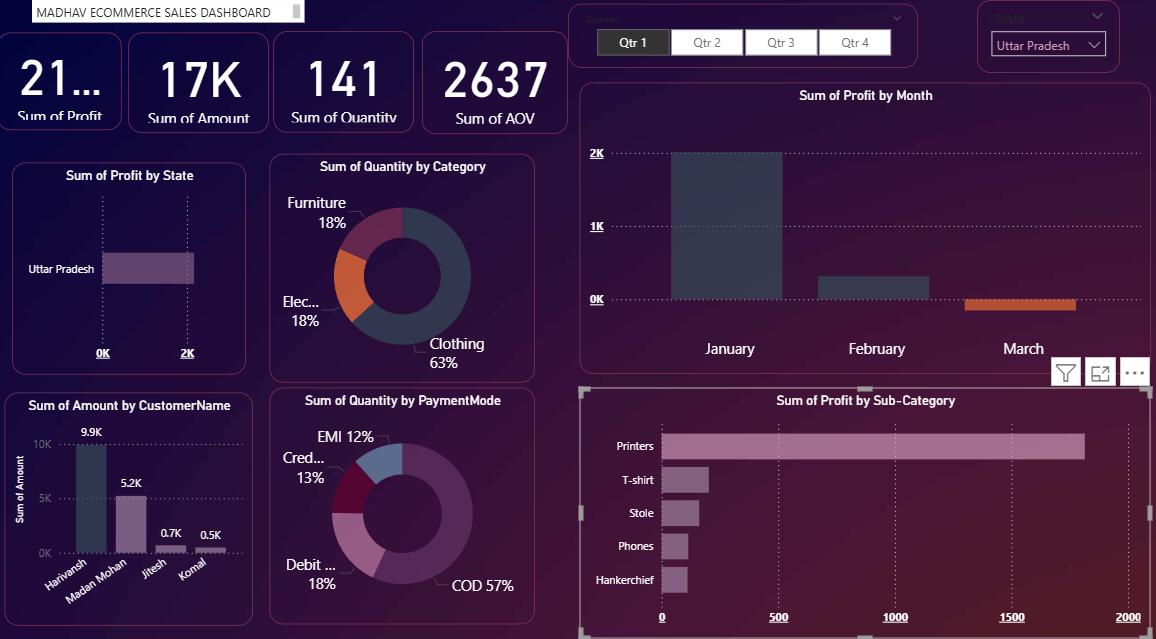

The dashboard page shown, as its layout file describes it:
{"tool":"powerbi","page":{"name":"Page 1","canvas":[1280,720],"ordinal":0},"visuals":[{"type":"textbox","box":[40,0,295.7,45.7],"z":0},{"type":"barChart","fields":{"Y":["Details.Profit"],"Category":["Details.Sub-Category"]},"box":[640,431.4,627.1,275.7],"z":1000},{"type":"clusteredColumnChart","fields":{"Category":["Orders (1).Order Date.Variation.Date Hierarchy.Month"],"Y":["Details.Profit"]},"box":[640,95.7,627.1,320],"z":2000},{"type":"donutChart","fields":{"Y":["Details.Quantity"],"Category":["Details.PaymentMode"]},"box":[298.6,431.4,291.4,260],"z":3000},{"type":"donutChart","fields":{"Y":["Details.Quantity"],"Category":["Details.Category","Details.PaymentMode"]},"box":[298.6,174.3,291.4,251.4],"z":4000},{"type":"card","fields":{"Values":["Details.Amount"]},"box":[144.3,41.4,154.3,110],"z":5000},{"type":"card","fields":{"Values":["Details.Quantity"]},"box":[302.9,40,154.3,111.4],"z":6000},{"type":"card","fields":{"Values":["Details.Profit"]},"box":[0,41.4,137.1,107.1],"z":7000},{"type":"card","fields":{"Values":["Details.AOV"]},"box":[467.1,40,160,112.9],"z":8000},{"type":"barChart","fields":{"Y":["Details.Profit"],"Category":["Orders (1).State"]},"box":[17.1,184.3,257.1,232.9],"z":9000},{"type":"columnChart","fields":{"Category":["Orders (1).CustomerName"],"Y":["Details.Amount"]},"box":[8.6,435.7,272.9,255.7],"z":10000},{"type":"slicer","fields":{"Values":["Orders (1).Order Date.Variation.Date Hierarchy.Quarter"]},"box":[627.1,10,384.3,70],"z":10001},{"type":"slicer","fields":{"Values":["Orders (1).State"]},"box":[1075.7,5.7,157.1,80],"z":10002}]}

Visuals, with their boxes in screenshot pixels (x1, y1, x2, y2), scaled from the page's 1280x720 canvas onto the 1156x639 screenshot:
textbox: 36, 0, 303, 41
barChart - Details.Profit x Details.Sub-Category: 578, 383, 1144, 628
clusteredColumnChart - Orders (1).Order Date.Variation.Date Hierarchy.Month x Details.Profit: 578, 85, 1144, 369
donutChart - Details.Quantity x Details.PaymentMode: 270, 383, 533, 614
donutChart - Details.Quantity x Details.Category: 270, 155, 533, 378
card - Details.Amount: 130, 37, 270, 134
card - Details.Quantity: 274, 36, 413, 134
card - Details.Profit: 0, 37, 124, 132
card - Details.AOV: 422, 36, 566, 136
barChart - Details.Profit x Orders (1).State: 15, 164, 248, 370
columnChart - Orders (1).CustomerName x Details.Amount: 8, 387, 254, 614
slicer - Orders (1).Order Date.Variation.Date Hierarchy.Quarter: 566, 9, 913, 71
slicer - Orders (1).State: 971, 5, 1113, 76
